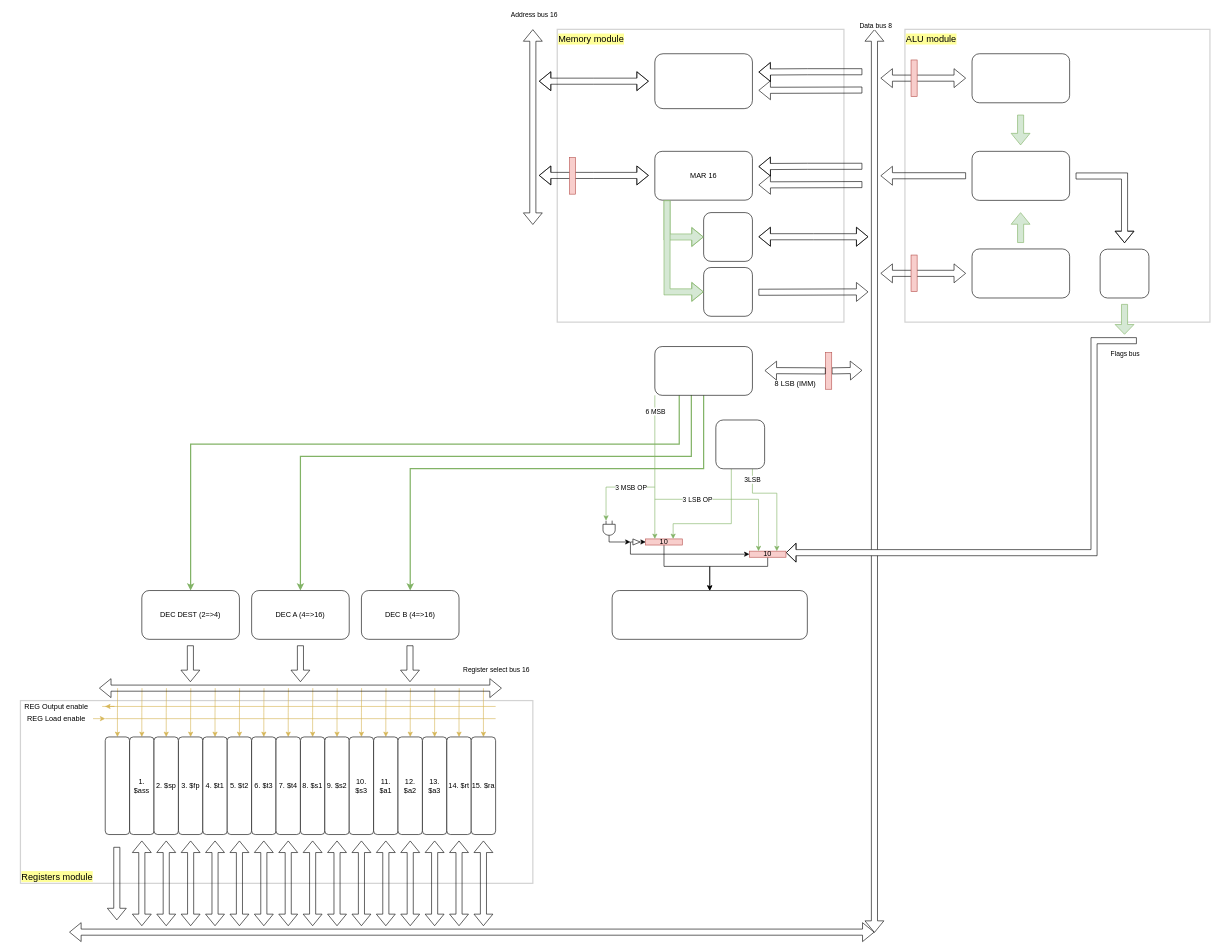
The diagram is 1221 pixels wide and 952 high, and some of its shapes have lost their labels. Each missing label, with the centre of its shape:
0. $zero: point (117, 785)
ADDER 8: point (1020, 175)
FLAGS 4: point (1124, 273)
IC 4: point (740, 444)
IR 16: point (703, 370)
Micro instr ROM (10=>1024): point (709, 614)
PC 16: point (703, 81)
RAM 16,8 (64k): point (727, 236)
REG A 8: point (1020, 78)
REG B 8: point (1020, 273)
ROM 16,8 (64k): point (727, 291)
